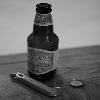beer: (27, 2, 60, 80)
